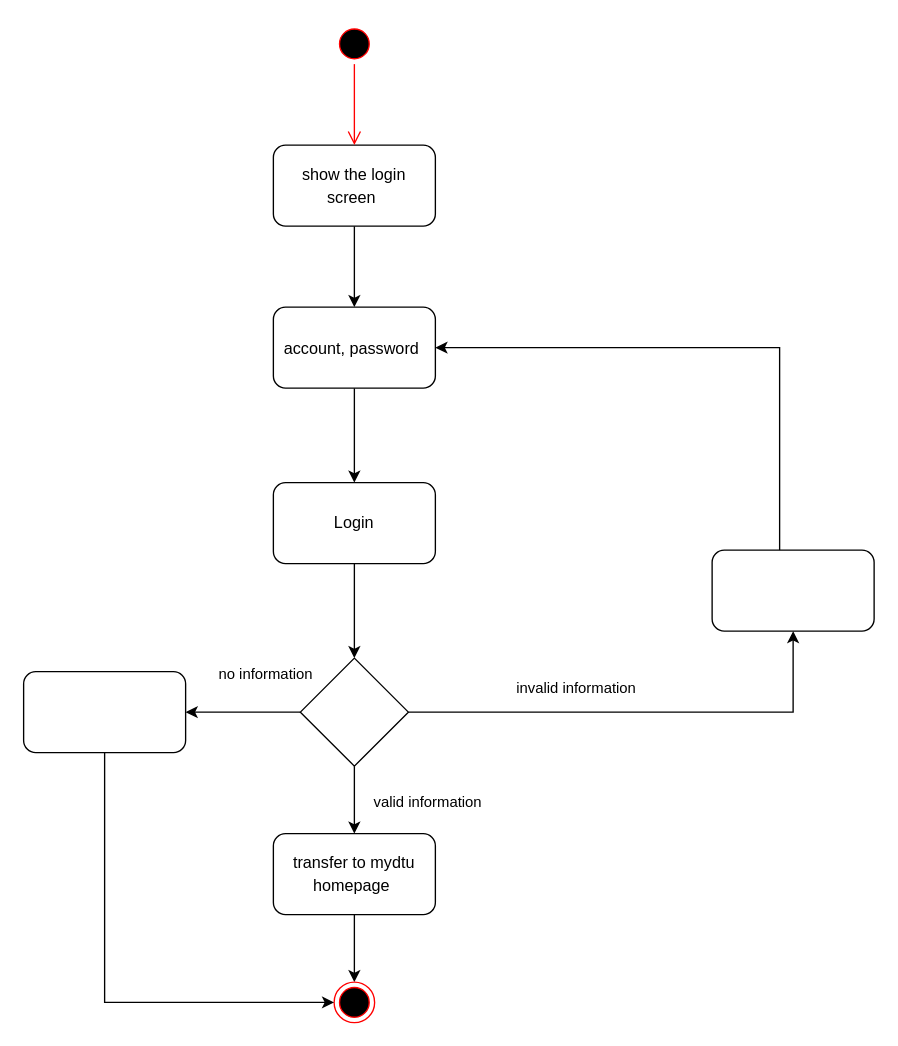
The diagram is 898 pixels wide and 1046 high, and some of its shapes have lost their labels. Each missing label, with the centre of its shape:
"incorrect import notice" belongs at pixel 792 590.
"move to the training room" belongs at pixel 104 711.
